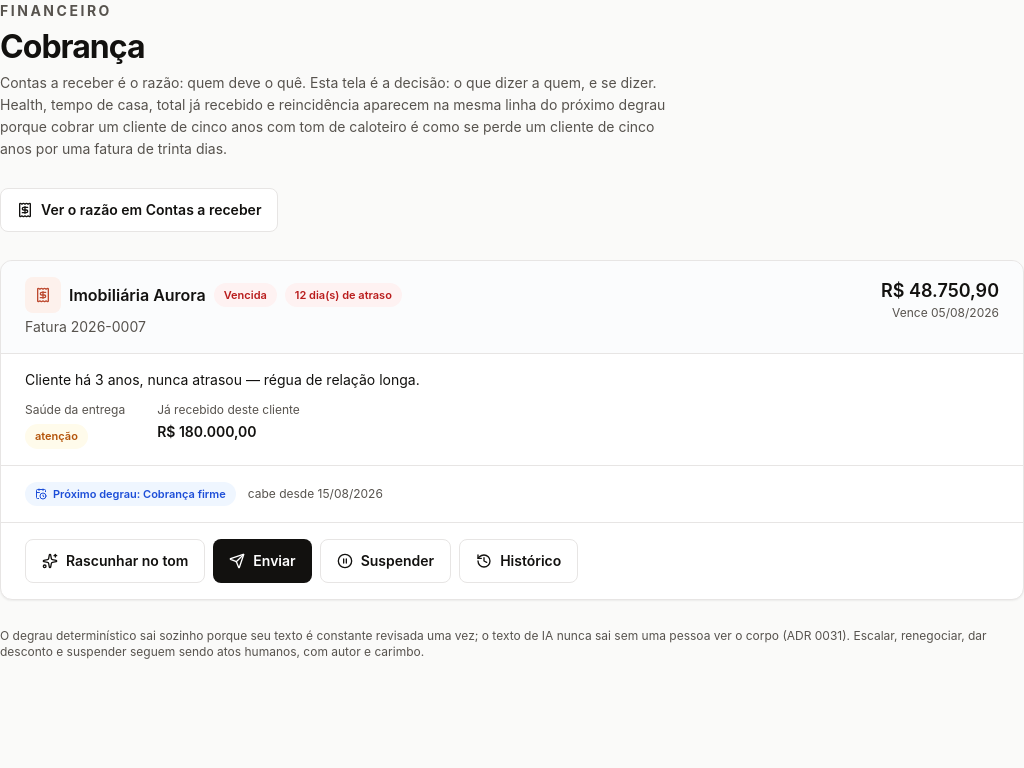
Test case: o alcance nasce na fatura da linha em que se clicou
Click the button with aria-label "Suspender cobrança".
click(385, 561)  # box [320,539,451,583]
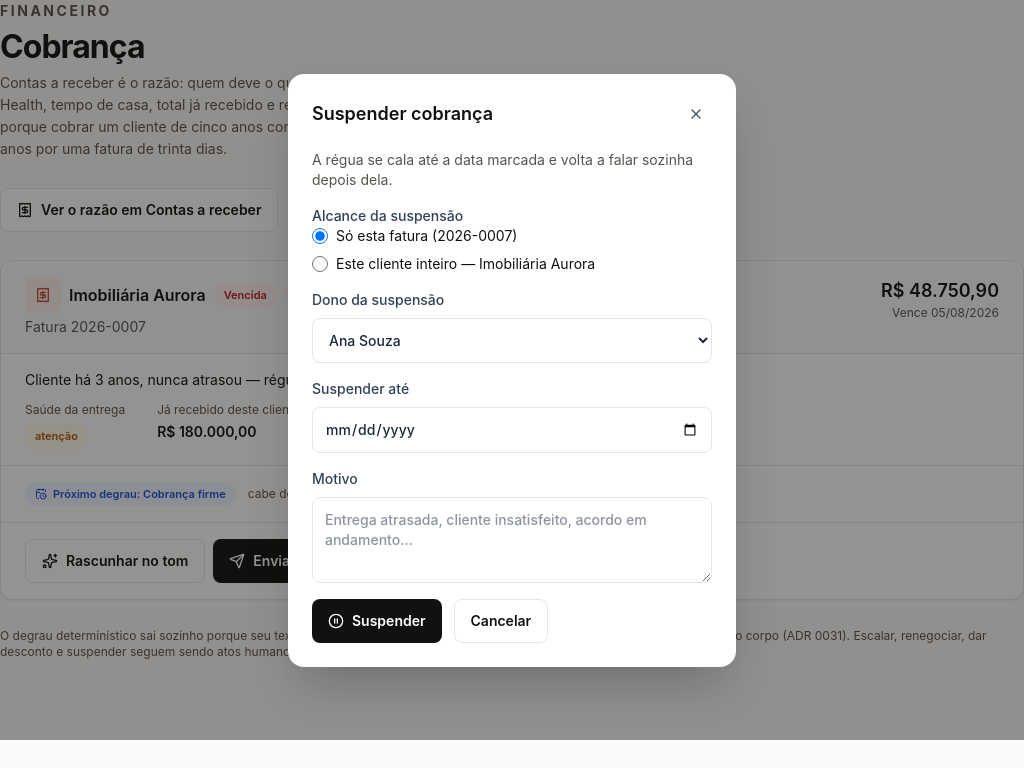
Result: the radio button labelled "Só esta fatura (2026-0007)" is checked at [312,228,328,244]
